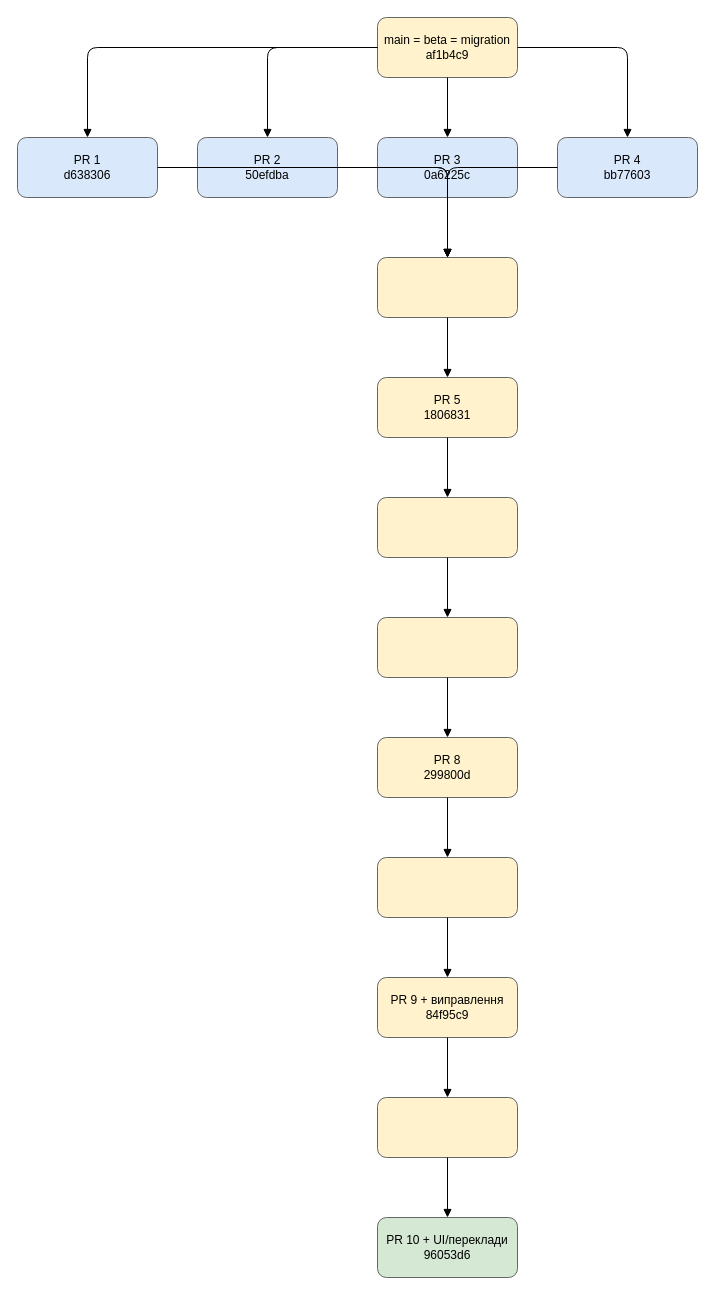
This 715x1295 diagram has some shape labels left out. The shapes that lost their labels are listed below. From the top down, each one's centre as x and y in pixels, then its label:
point 447,287: Octopus merge 43477a5
point 447,527: PR 6 f8e4297
point 447,647: PR 7 8773551
point 447,887: Step 5 4484a53
point 447,1127: Step 6 508ea94
